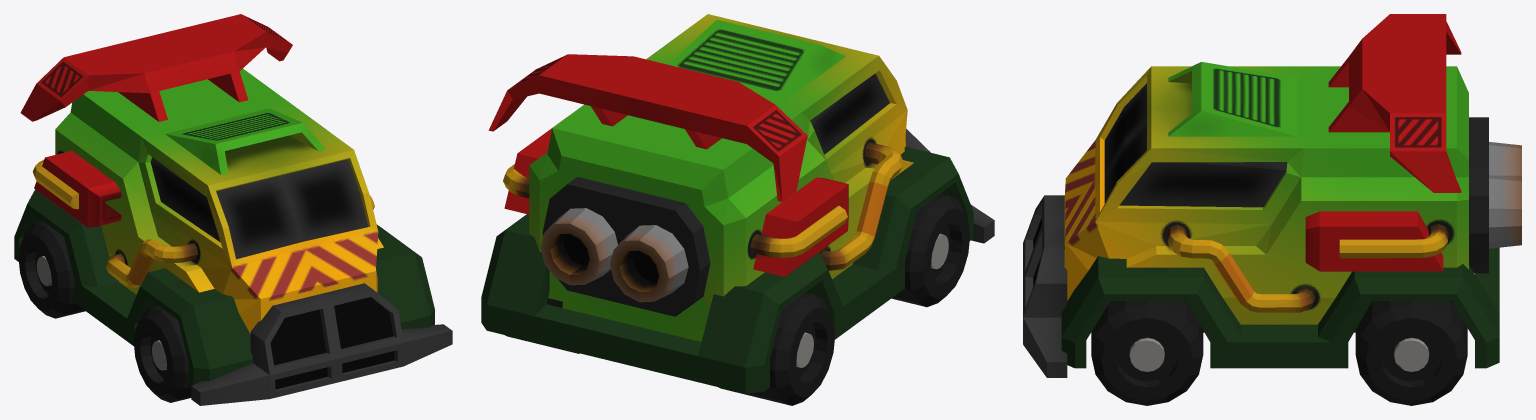
File: tiny-racer-7.glb
3 renders of one model, left to right at view 1: azimuth 30°, elevation 25°; view 2: azimuth 150°, elevation 25°; view 3: azimuth 270°, elevation 25°, orthographic. The views are drawn at different scales.
Parts seen in each view (by area): view 1: Cube.208, Plane.040, Cube.206, Cube.205, wheel_3, wheel_2, Cube.207, Plane.042, Plane.041; view 2: Cube.208, Plane.040, Cube.205, Cylinder.240, wheel_3, wheel_2, Cube.207, Plane.042, Plane.041, Cube.206; view 3: Cube.208, Plane.040, Cube.205, wheel_1, wheel_0, Cube.206, Cube.207, Plane.042, Cylinder.240, Plane.041.
Part boxes in pixels (x1,y1,x2,y2): Cube.208: [55, 69, 383, 333]; Plane.040: [14, 189, 434, 387]; Cube.206: [191, 283, 452, 405]; Cube.205: [20, 14, 292, 121]; wheel_3: [18, 221, 85, 318]; wheel_2: [133, 306, 191, 402]; Cube.207: [34, 151, 121, 227]; Plane.042: [105, 195, 374, 288]; Plane.041: [32, 160, 78, 209]; Cube.208: [529, 14, 913, 341]; Plane.040: [481, 146, 973, 393]; Cube.205: [488, 54, 807, 202]; Cylinder.240: [540, 208, 688, 302]; wheel_3: [718, 292, 835, 405]; wheel_2: [891, 193, 969, 307]; Cube.207: [504, 128, 848, 276]; Plane.042: [820, 142, 903, 270]; Plane.041: [503, 164, 847, 257]; Cube.206: [905, 129, 994, 243]; Cube.208: [1064, 62, 1488, 332]; Plane.040: [1061, 247, 1499, 368]; Cube.205: [1328, 14, 1461, 192]; wheel_1: [1355, 301, 1467, 405]; wheel_0: [1091, 301, 1203, 405]; Cube.206: [1023, 195, 1067, 377]; Cube.207: [1305, 211, 1443, 271]; Plane.042: [1167, 224, 1315, 312]; Cylinder.240: [1489, 142, 1521, 248]; Plane.041: [1339, 224, 1448, 258].
Bounding box in the file's own units: 0.9744 × 0.8616 × 1.42.
1 material, 1 textured.
